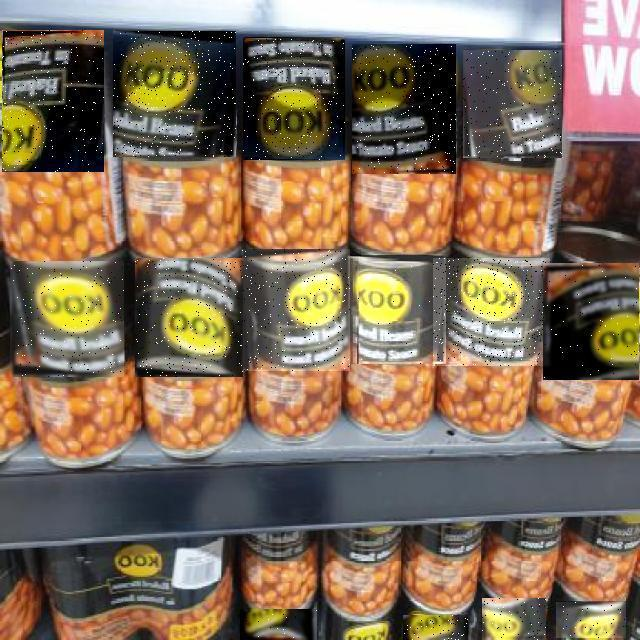Beans: (113, 31, 236, 157), (2, 31, 104, 173), (352, 44, 456, 174), (10, 261, 124, 377), (242, 249, 350, 371), (135, 258, 243, 377), (433, 259, 550, 367), (243, 38, 345, 160), (543, 263, 639, 380), (463, 50, 562, 158), (348, 256, 446, 364), (482, 598, 546, 640), (556, 602, 626, 638), (240, 609, 317, 640), (403, 615, 468, 640)
